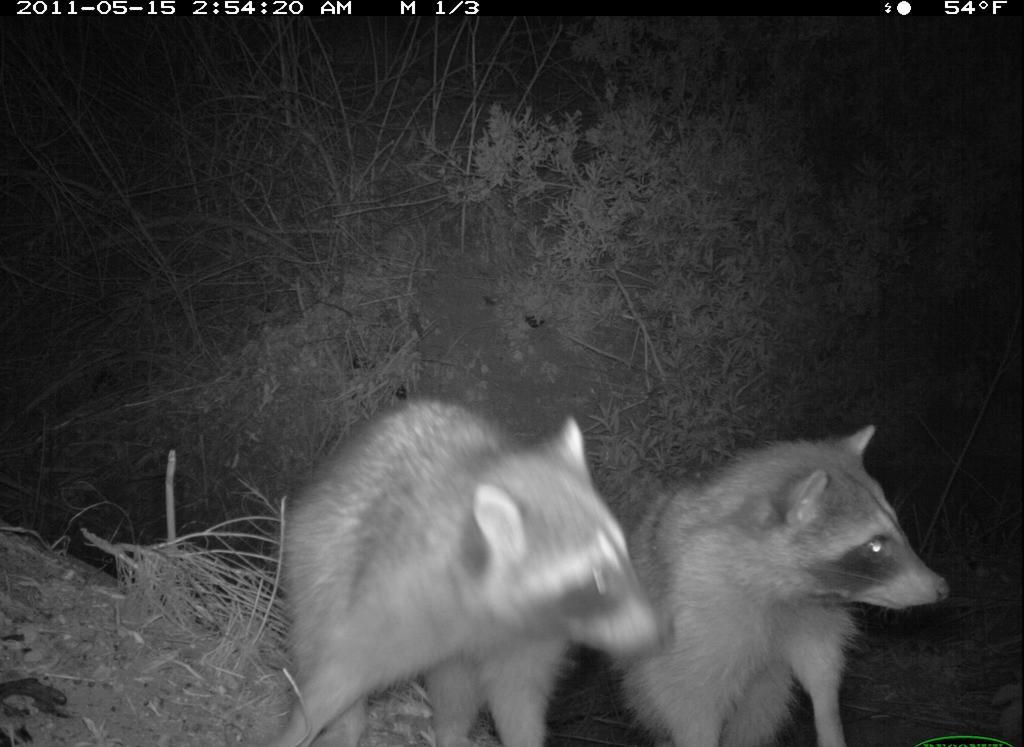raccoon: (272, 397, 661, 747), (612, 411, 955, 735)
